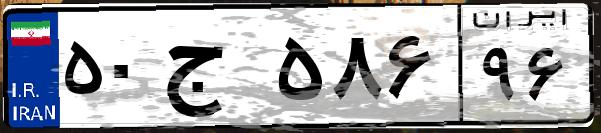0: (110, 28, 158, 98)
5: (270, 28, 330, 110), (57, 26, 110, 100)
6: (385, 28, 445, 110), (525, 38, 570, 115)
8: (330, 28, 385, 110)
9: (475, 38, 525, 113)
ج: (158, 20, 270, 120)
